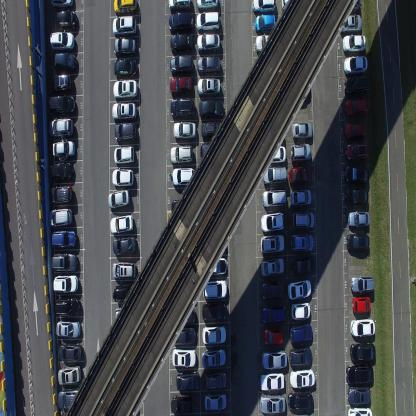car: (289, 366, 316, 389), (346, 364, 374, 386), (343, 97, 370, 119), (53, 274, 80, 296), (51, 252, 78, 274), (48, 94, 75, 116), (260, 210, 285, 233), (261, 349, 288, 370), (57, 388, 84, 409), (202, 300, 227, 322), (287, 278, 312, 300), (260, 232, 285, 254), (343, 73, 368, 95), (170, 97, 195, 119), (195, 10, 220, 32), (49, 161, 74, 183), (344, 142, 370, 163), (112, 79, 138, 100), (49, 30, 75, 51), (54, 298, 81, 318), (349, 342, 376, 362), (113, 121, 136, 144), (170, 54, 194, 76), (176, 370, 200, 392), (113, 35, 137, 57), (57, 364, 81, 386), (262, 302, 287, 323), (260, 256, 285, 277), (48, 208, 73, 229), (203, 278, 228, 299), (112, 284, 138, 304), (52, 230, 78, 250), (260, 394, 286, 414), (349, 318, 376, 337), (170, 144, 193, 166), (290, 322, 313, 344), (292, 254, 316, 275), (290, 231, 314, 252), (288, 164, 312, 185), (202, 347, 226, 368), (170, 393, 194, 414), (58, 341, 82, 362), (261, 280, 286, 300), (261, 144, 286, 164), (171, 167, 196, 187), (262, 187, 287, 207), (342, 53, 367, 73), (56, 320, 81, 340), (49, 186, 74, 206), (168, 12, 193, 32), (48, 118, 73, 138), (259, 372, 285, 391), (198, 98, 224, 117), (171, 348, 197, 367), (173, 120, 196, 141), (197, 76, 220, 97), (107, 189, 130, 210), (204, 256, 228, 276), (338, 12, 362, 32), (197, 54, 221, 74), (169, 33, 193, 53), (112, 236, 136, 256), (202, 324, 226, 344), (346, 233, 370, 253), (350, 274, 374, 294), (112, 15, 136, 35), (112, 262, 137, 281), (262, 165, 287, 184), (344, 164, 369, 183), (288, 391, 313, 410), (111, 102, 137, 120), (110, 214, 132, 235), (112, 167, 134, 188), (290, 346, 313, 366), (342, 32, 365, 52), (196, 32, 219, 52), (54, 52, 77, 72), (345, 186, 369, 205), (203, 370, 227, 389), (113, 145, 134, 166), (290, 142, 312, 162), (292, 208, 314, 228), (170, 76, 192, 96), (52, 73, 74, 93), (348, 209, 371, 228), (113, 58, 136, 77), (254, 33, 278, 51), (200, 120, 224, 138), (172, 326, 196, 344), (347, 387, 371, 405), (52, 140, 76, 158), (292, 119, 312, 140), (290, 187, 312, 206), (199, 142, 222, 160), (173, 307, 196, 325), (204, 392, 227, 410), (254, 13, 275, 32), (56, 10, 77, 29), (264, 327, 284, 346), (344, 121, 365, 139), (292, 302, 312, 320), (113, 0, 137, 15), (352, 296, 371, 314), (251, 0, 275, 14), (280, 0, 302, 12), (168, 0, 191, 11), (348, 405, 372, 415), (196, 0, 219, 10), (50, 0, 73, 9)
